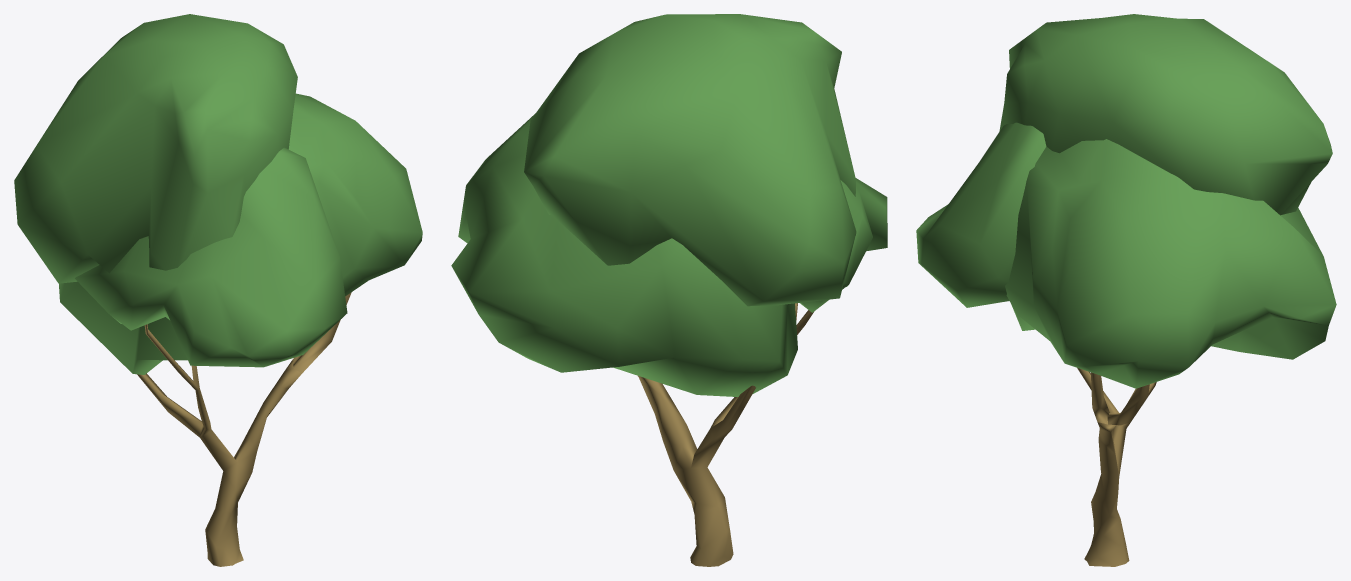
Rendered from tree4.glb.
3 renders of one model, left to right at view 1: azimuth 30°, elevation 25°; view 2: azimuth 150°, elevation 25°; view 3: azimuth 270°, elevation 25°, orthographic. The views are drawn at different scales.
Parts seen in each view (by area): view 1: Cube.001; view 2: Cube.001; view 3: Cube.001.
Boxes of the visible parts, x1=… form: Cube.001: x1=14, y1=14, x2=422, y2=566; Cube.001: x1=451, y1=14, x2=887, y2=566; Cube.001: x1=916, y1=14, x2=1336, y2=566.
Size of the model in its own units: 4.59 by 6.07 by 4.35.
1 material, 1 textured.
